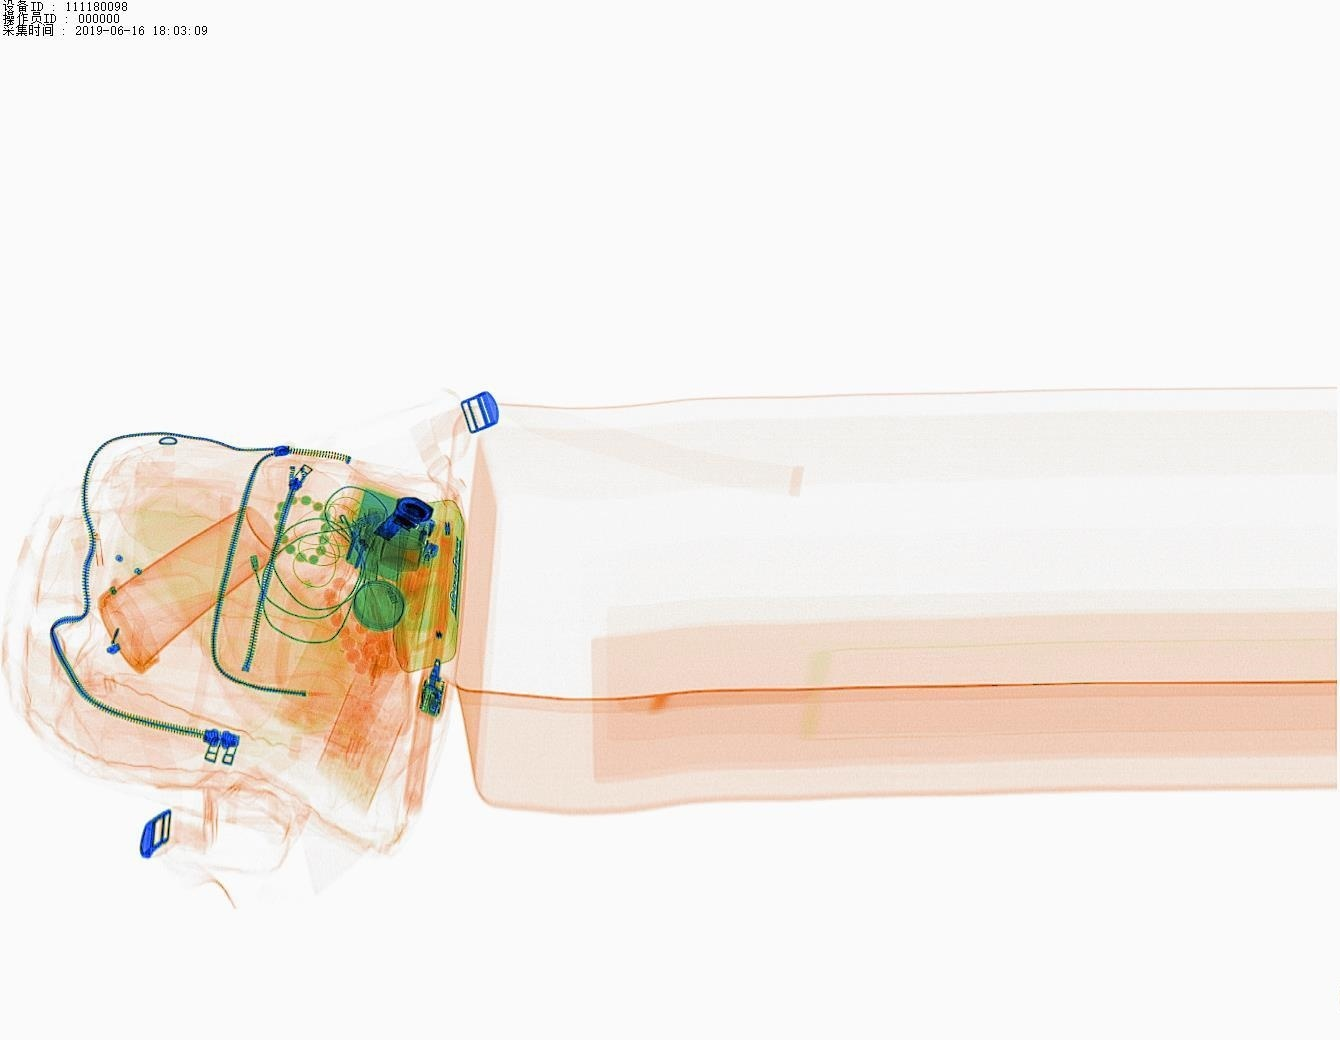NonmetallicFire: (409, 510, 452, 621)
